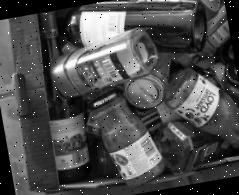glass: (30, 0, 239, 195)
